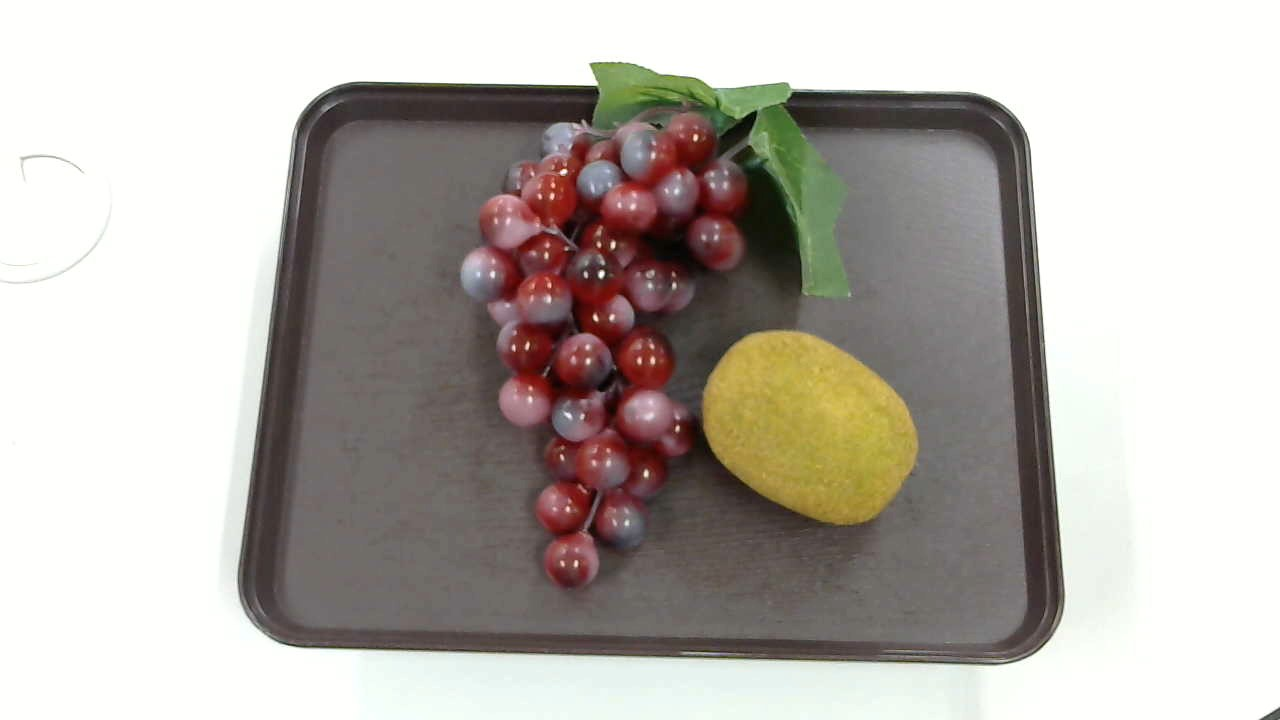grape: (454, 59, 852, 598)
kiwi fruit: (701, 327, 920, 529)
